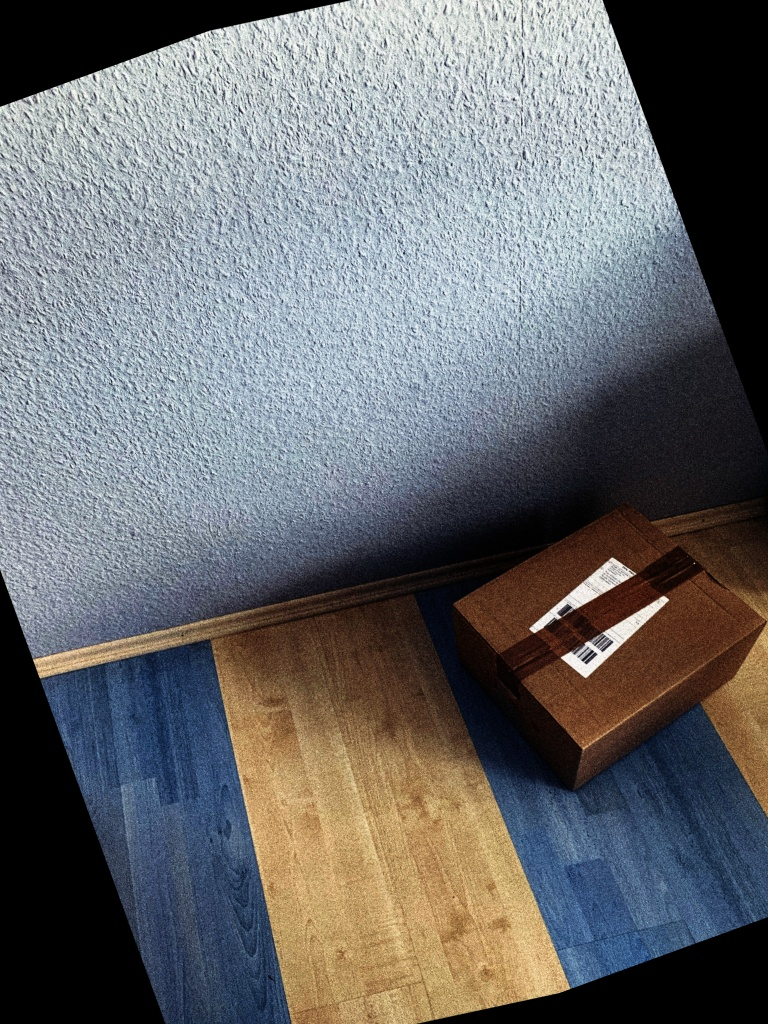good-parcel: (415, 504, 766, 797)
